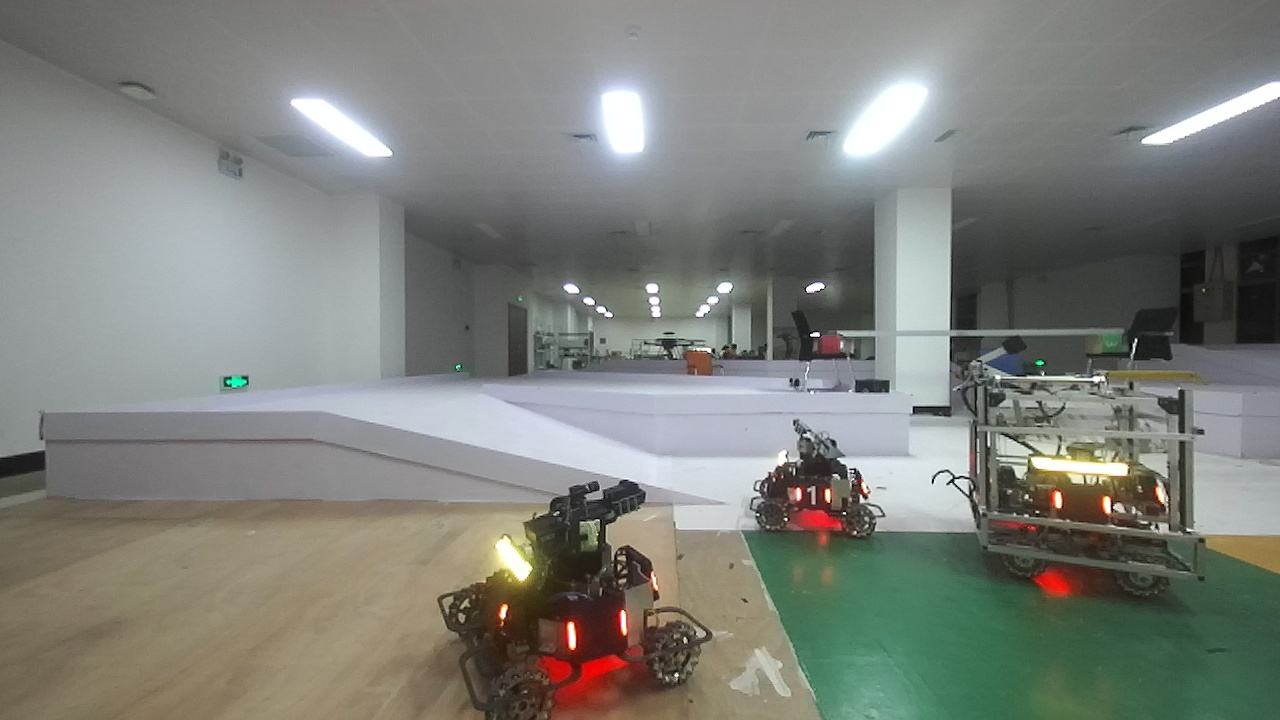car: (450, 477, 749, 696), (946, 348, 1224, 577), (749, 413, 883, 539)
